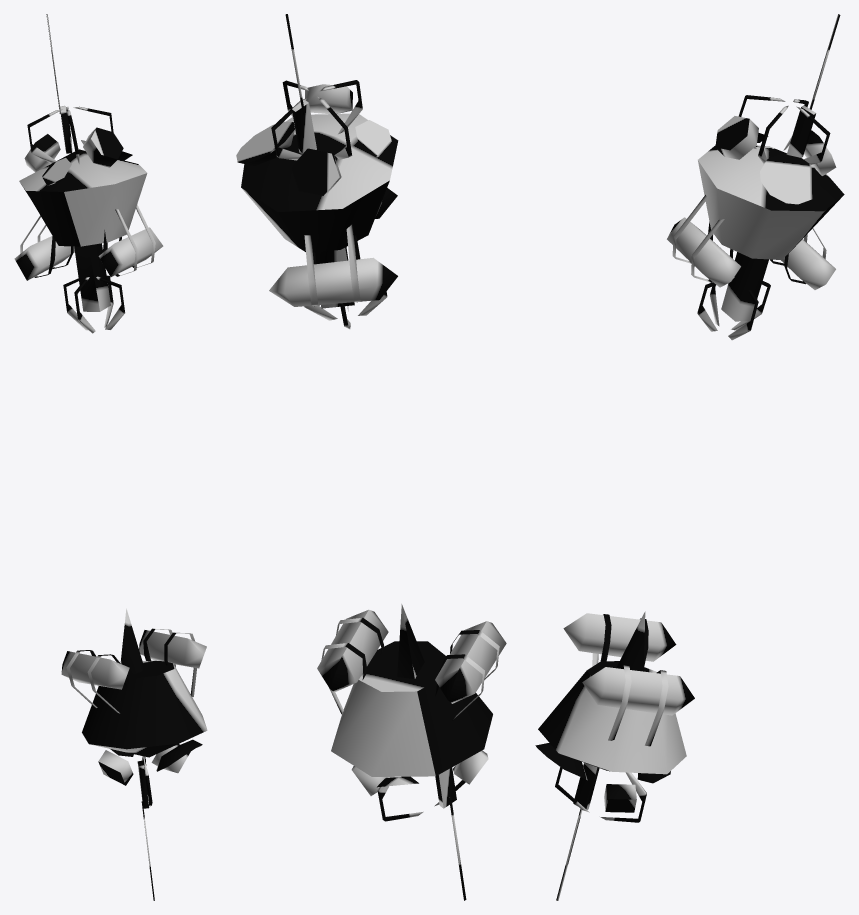
File: aegis-ship-pod.obj
3 views of the same model, side by side, from view 1: azimuth 30°, elevation 25°; view 2: azimuth 150°, elevation 25°; view 3: azimuth 270°, elevation 25° (orthographic). The views are drawn at different scales.
Visible parts, largest first — view 1: main; view 2: main; view 3: main.
Boxes of the visible parts, left/top/right/bottom form: main: left=14, top=14, right=207, bottom=900; main: left=236, top=14, right=506, bottom=900; main: left=535, top=14, right=844, bottom=900.
Size of the model in its own units: 28.6 by 166 by 51.9.
Materials: 1 (1 with a texture image).
